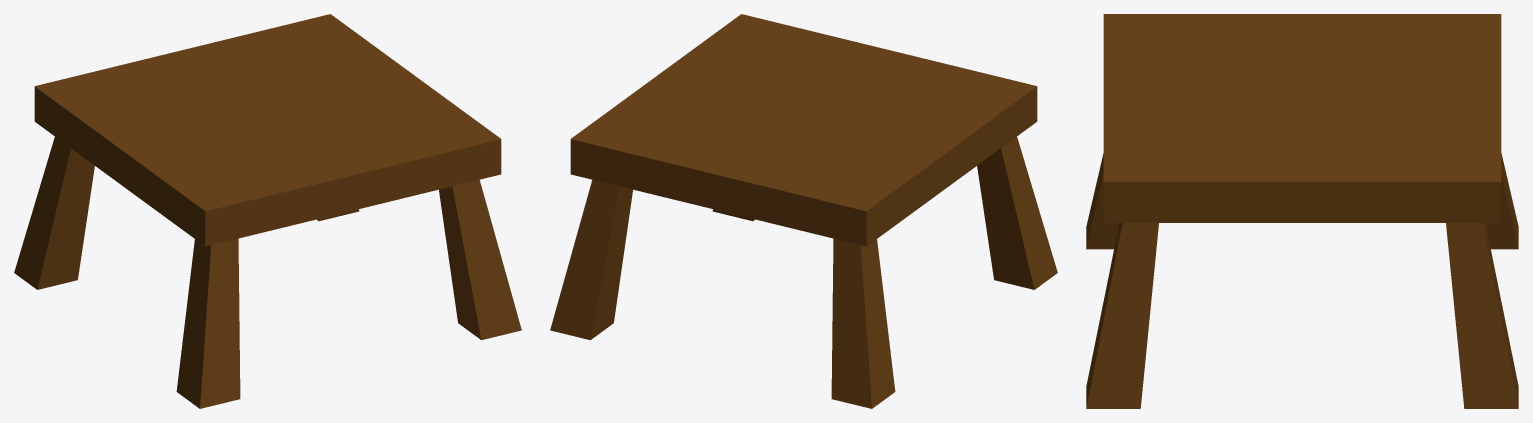
File: Table.fbx
The picture shows the model from 3 angles, left to right: view 1: azimuth 30°, elevation 25°; view 2: azimuth 150°, elevation 25°; view 3: azimuth 270°, elevation 25°; orthographic projection. The views are drawn at different scales.
Parts seen in each view (by area): view 1: Table; view 2: Table; view 3: Table.
Part boxes in pixels (x1,y1,x2,y2): Table: [14, 14, 521, 408]; Table: [550, 14, 1057, 408]; Table: [1086, 14, 1518, 408].
Bounding box in the file's own units: 158 × 88.61 × 158.
